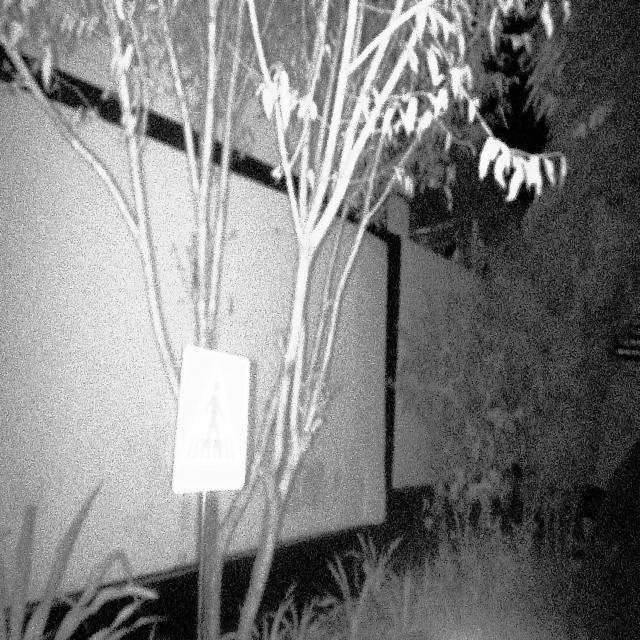Sign: (171, 344, 251, 496)
